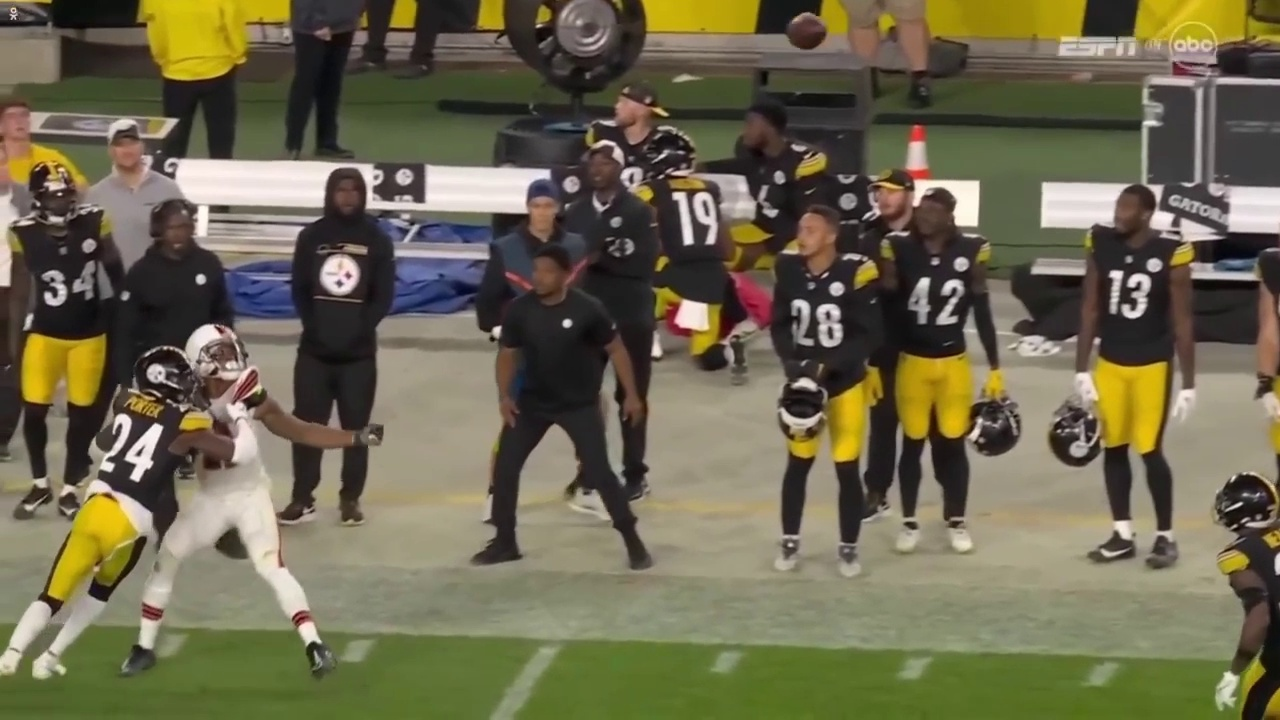football: (773, 21, 849, 52)
interference: (159, 389, 246, 466)
